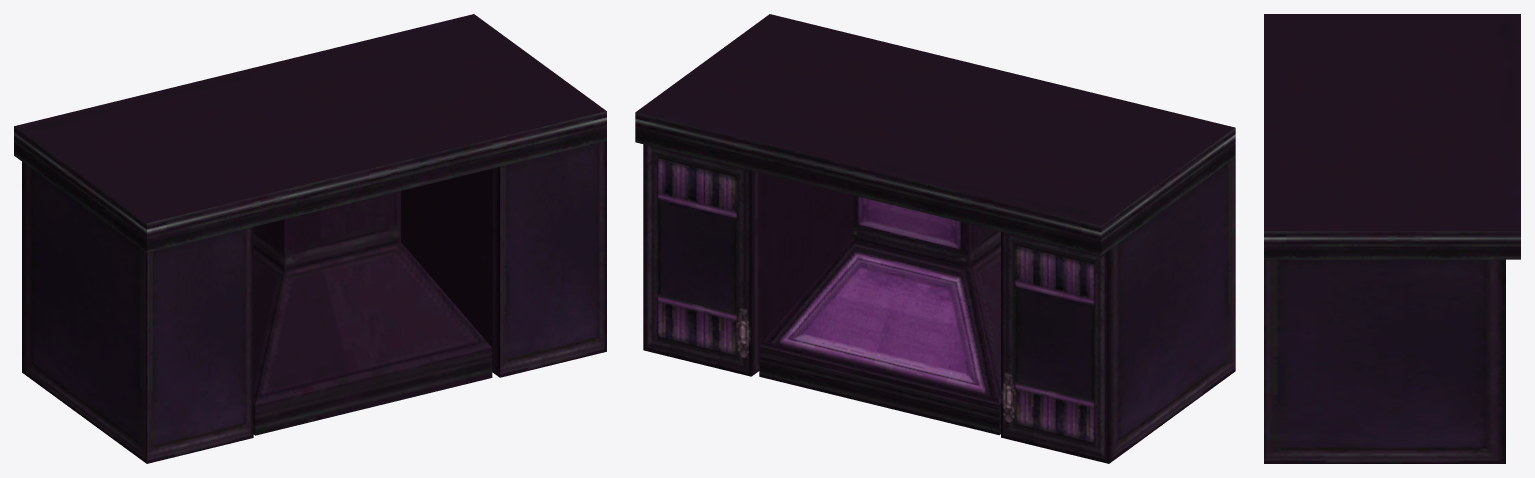
The model's file is furni_0201223_02.FBX.
3 renders of one model, left to right at view 1: azimuth 30°, elevation 25°; view 2: azimuth 150°, elevation 25°; view 3: azimuth 270°, elevation 25°, orthographic. The views are drawn at different scales.
Visible parts, largest first — view 1: furni_0201223_02; view 2: furni_0201223_02; view 3: furni_0201223_02.
Part boxes in pixels (x1,y1,x2,y2): furni_0201223_02: [14, 14, 606, 463]; furni_0201223_02: [635, 14, 1235, 463]; furni_0201223_02: [1264, 14, 1520, 463].
Size of the model in its own units: 160 by 80.03 by 80.
